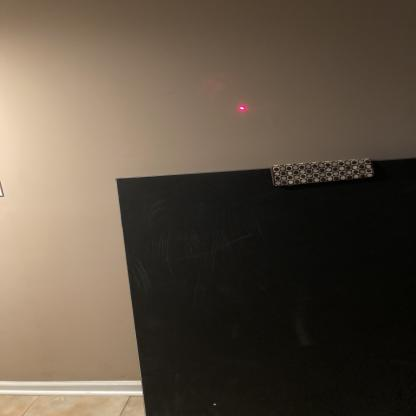target: (233, 99, 252, 117)
